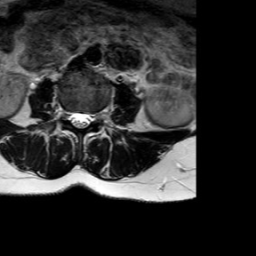CCS_stenosis: (76, 100, 84, 135)
LFS_normal: (92, 101, 100, 129)
LLS_normal: (84, 101, 92, 133)
RFS_normal: (60, 97, 68, 127)
RLS_normal: (68, 100, 76, 131)
